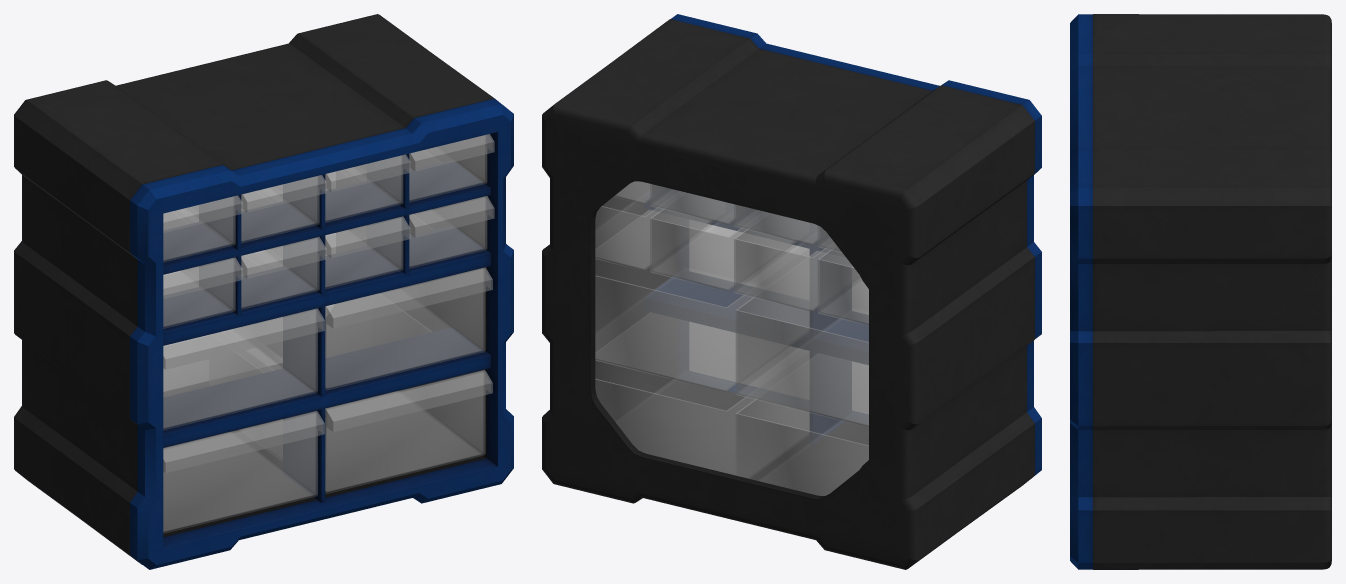
The model's file is StorageCabinetOrganizer_12Drawers.glb.
3 renders of one model, left to right at view 1: azimuth 30°, elevation 25°; view 2: azimuth 150°, elevation 25°; view 3: azimuth 270°, elevation 25°, orthographic.
Parts seen in each view (by area): view 1: StorageCabinetOrganizer_12Drawers; view 2: StorageCabinetOrganizer_12Drawers; view 3: StorageCabinetOrganizer_12Drawers.
Part boxes in pixels (x1,y1,x2,y2): StorageCabinetOrganizer_12Drawers: [14, 14, 513, 569]; StorageCabinetOrganizer_12Drawers: [542, 14, 1041, 569]; StorageCabinetOrganizer_12Drawers: [1070, 14, 1331, 569].
Size of the model in its own units: 26.63 by 25.68 by 15.92.
2 materials, 1 textured.
